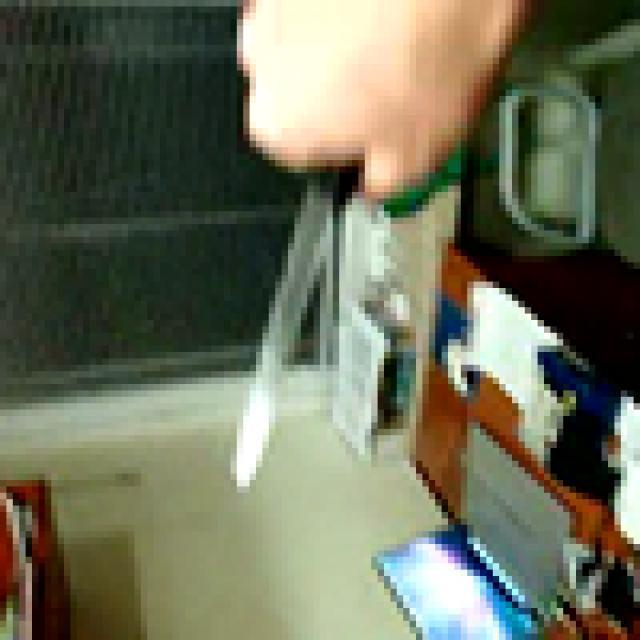knife: (231, 109, 378, 493)
